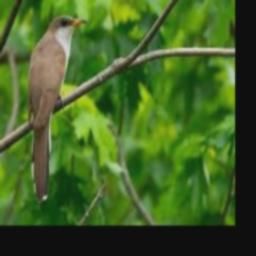Cuckoo: (27, 15, 88, 202)
